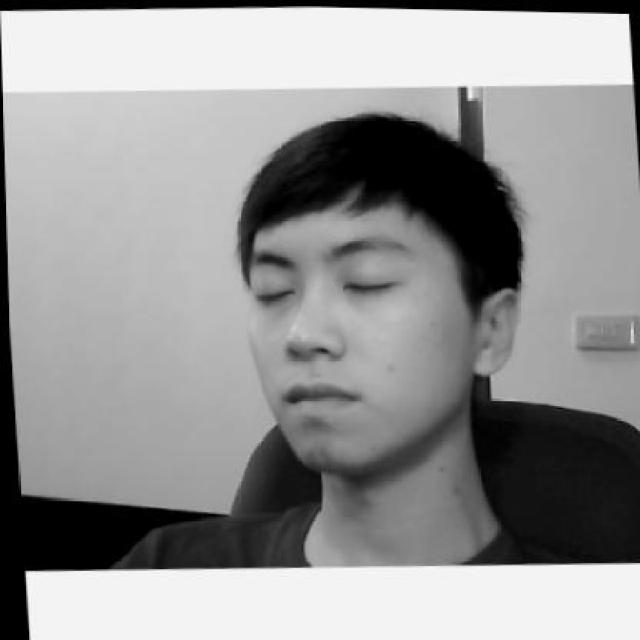inattentif: (229, 101, 525, 468)
